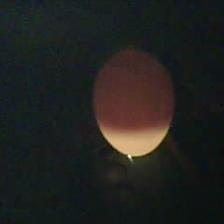fertile: (91, 47, 176, 157)
